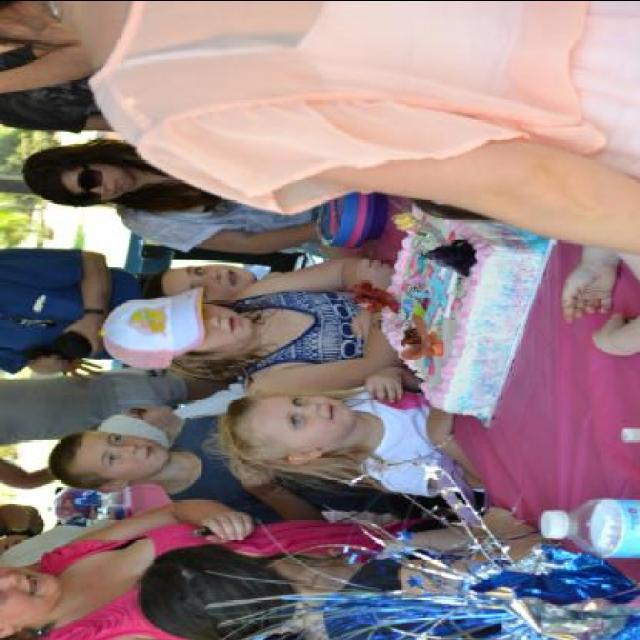Cake: (379, 204, 555, 427)
